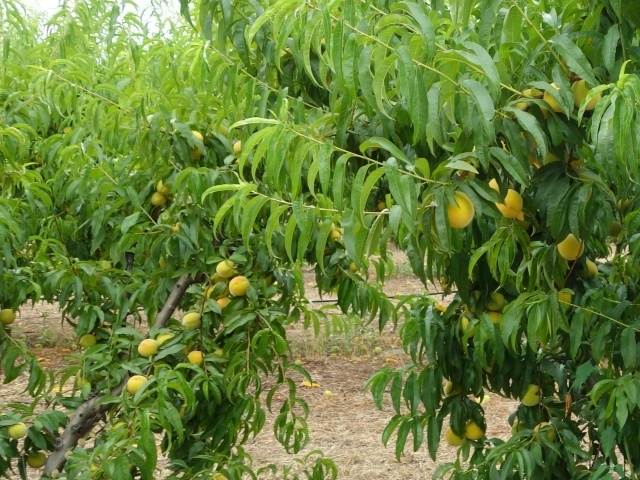peach: (438, 187, 478, 228), (489, 186, 530, 221), (535, 77, 570, 118), (550, 231, 590, 266), (568, 75, 602, 116), (457, 420, 490, 444), (516, 382, 544, 410), (479, 304, 509, 330), (441, 426, 471, 452), (225, 276, 254, 302), (557, 283, 583, 311), (136, 336, 163, 360), (179, 309, 207, 332), (483, 290, 507, 316), (122, 373, 150, 395), (4, 420, 30, 443), (530, 419, 554, 442), (76, 329, 98, 353), (211, 259, 236, 280), (22, 450, 48, 470), (150, 330, 174, 351), (582, 256, 601, 282), (183, 347, 205, 369), (212, 294, 234, 313), (147, 190, 167, 209), (1, 306, 20, 325), (151, 179, 173, 195)
